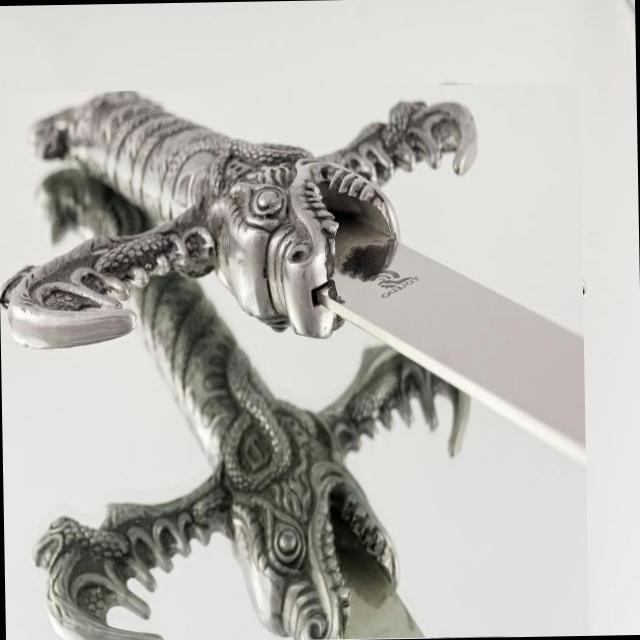Knife: (0, 91, 586, 640)
